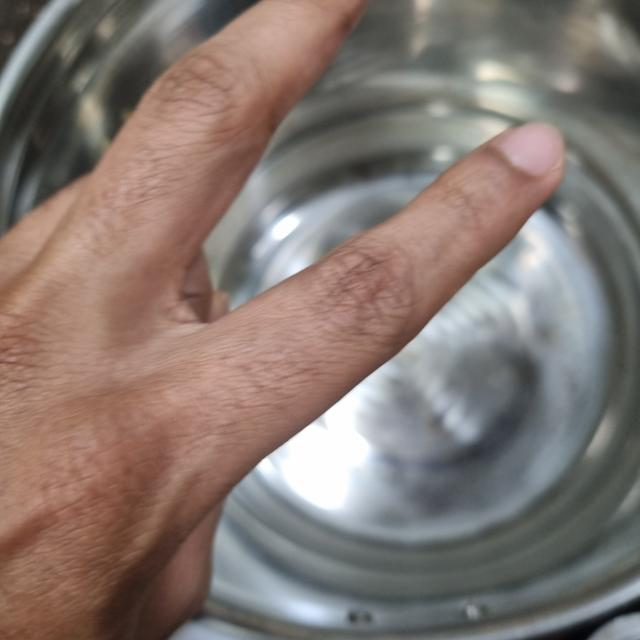Scissors: (0, 1, 560, 640)
